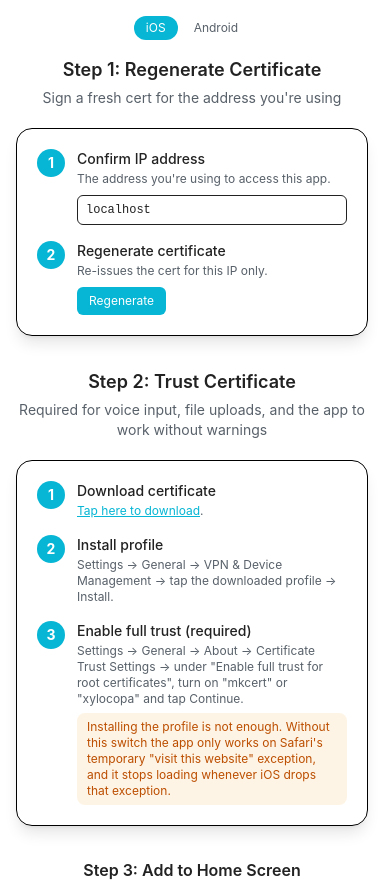
Test: CertGuidePage regenerate › other errors show the server's detail
This screenshot has width=385, height=884.
Replace the text in the field with "100.64.0.10" at point(212, 210), box [77, 195, 347, 225]
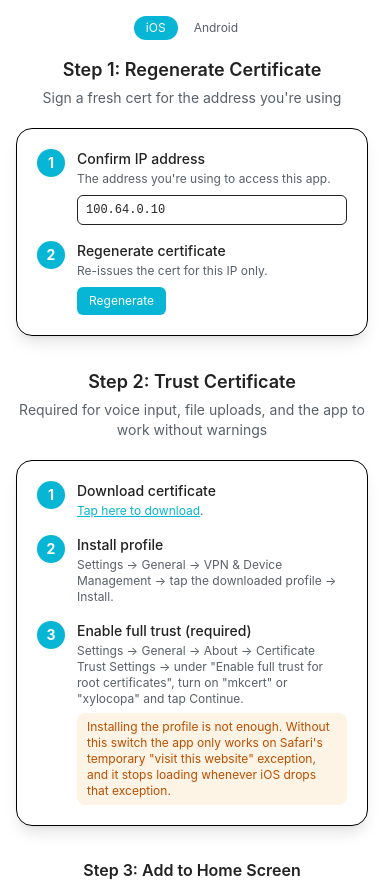
Click the button "Regenerate" at point(122, 301), box [77, 287, 166, 315]
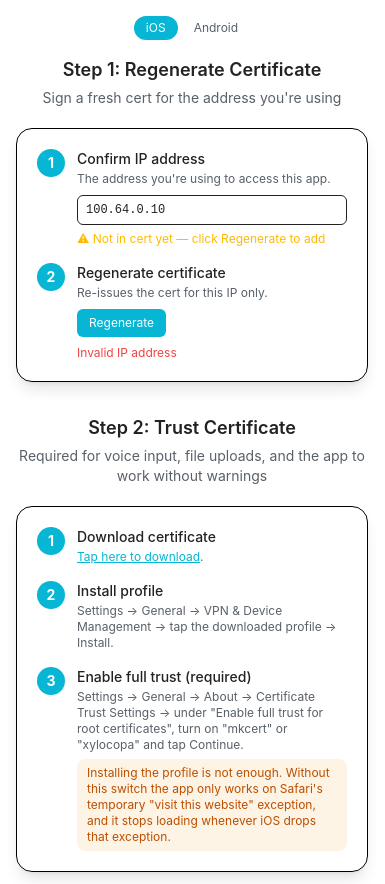
Expected: the text "Invalid IP address" is shown, [77, 345, 177, 360]
